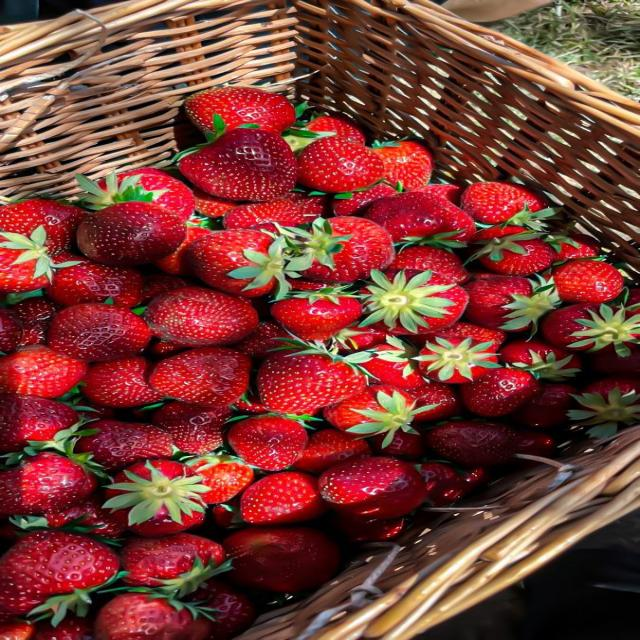strawberry: (0, 531, 118, 624), (179, 128, 297, 200), (104, 460, 208, 537), (257, 343, 367, 414), (223, 527, 340, 593), (289, 217, 394, 283), (77, 202, 185, 266), (361, 271, 468, 334), (121, 533, 226, 597), (187, 230, 287, 297), (145, 287, 257, 346), (319, 457, 425, 518), (76, 167, 195, 220), (325, 385, 427, 446), (149, 347, 251, 405), (48, 303, 150, 361), (0, 452, 95, 514), (94, 592, 212, 639), (464, 276, 559, 331), (542, 303, 639, 356), (184, 87, 295, 133), (0, 226, 73, 294), (75, 420, 173, 470), (298, 136, 383, 193), (271, 288, 362, 340), (0, 199, 85, 254), (0, 394, 79, 453), (0, 345, 87, 398), (240, 471, 326, 524), (47, 260, 143, 307), (228, 415, 307, 470), (568, 376, 639, 437), (425, 421, 517, 466), (152, 402, 231, 454), (83, 357, 162, 407), (416, 336, 499, 383), (460, 368, 539, 417), (366, 192, 444, 241), (408, 186, 476, 241), (43, 494, 125, 538), (194, 580, 255, 639), (461, 182, 546, 224), (474, 232, 557, 275), (500, 339, 581, 381), (293, 429, 370, 473), (362, 336, 424, 389), (187, 455, 254, 503), (223, 197, 316, 230), (552, 260, 623, 302), (389, 246, 469, 283), (154, 226, 213, 275), (373, 141, 433, 189), (413, 322, 506, 351), (423, 192, 476, 242), (418, 461, 475, 506), (409, 381, 462, 423), (12, 298, 58, 346), (332, 183, 397, 216), (235, 321, 290, 358), (332, 514, 404, 541), (305, 116, 365, 145), (332, 325, 387, 353), (371, 431, 424, 460), (547, 233, 602, 260), (590, 346, 639, 375), (142, 274, 190, 303), (32, 616, 91, 639), (194, 188, 237, 218), (286, 191, 328, 221), (410, 184, 463, 206), (469, 224, 527, 243), (516, 430, 555, 457), (0, 309, 23, 353), (211, 500, 241, 529), (234, 392, 270, 414), (145, 339, 186, 358), (0, 620, 35, 639), (288, 277, 327, 292)
